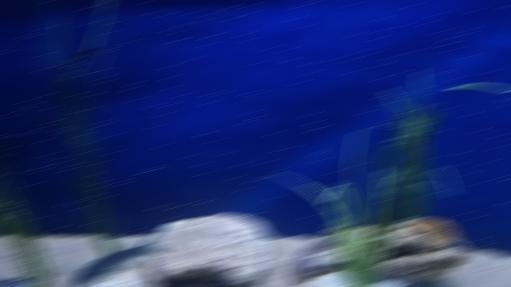Fish: (67, 235, 168, 286), (0, 278, 34, 286)
